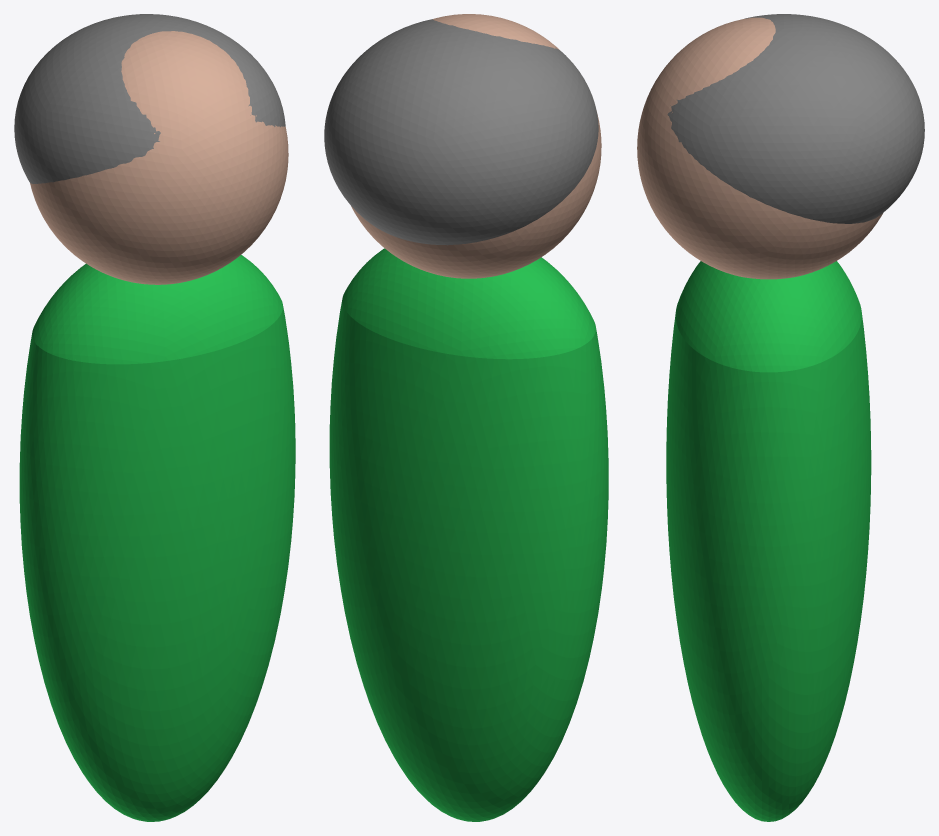
Rendered from Person1.fbx.
3 views of the same model, side by side, from view 1: azimuth 30°, elevation 25°; view 2: azimuth 150°, elevation 25°; view 3: azimuth 270°, elevation 25° (orthographic).
Parts seen in each view (by area): view 1: node_id8 (×3); view 2: node_id8 (×3); view 3: node_id8 (×3).
Boxes of the visible parts, x1,y1,x2,y2 form: node_id8 (×3): (14, 14, 295, 821); node_id8 (×3): (324, 14, 608, 821); node_id8 (×3): (637, 14, 924, 821).
Size of the model in its own units: 0.1755 by 0.512 by 0.1695.
